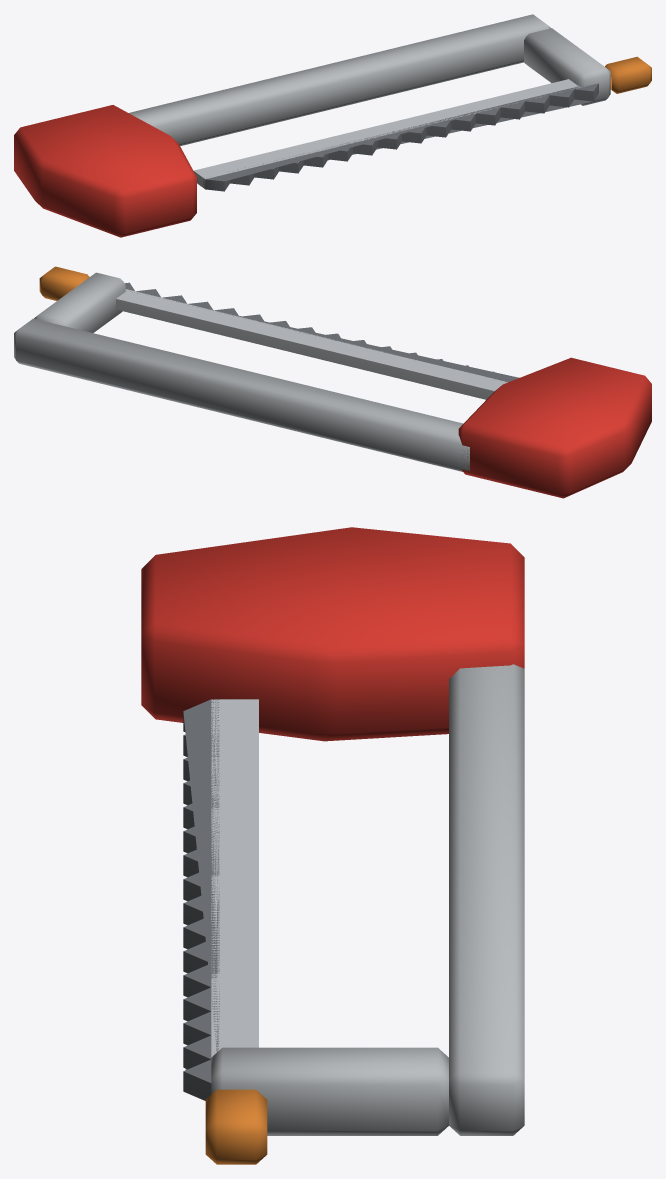
Rendered from SM_Hacksaw_01.glb.
The picture shows the model from 3 angles, top to bottom: view 1: azimuth 30°, elevation 25°; view 2: azimuth 150°, elevation 25°; view 3: azimuth 270°, elevation 25°; orthographic projection. The views are drawn at different scales.
Visible parts, largest first — view 1: SM_Hacksaw_01; view 2: SM_Hacksaw_01; view 3: SM_Hacksaw_01.
Part boxes in pixels (x1=…): SM_Hacksaw_01: x1=14, y1=14, x2=651, y2=237; SM_Hacksaw_01: x1=14, y1=266, x2=651, y2=498; SM_Hacksaw_01: x1=141, y1=527, x2=524, y2=1164.
Bounding box in the file's own units: 0.4788 × 0.038 × 0.137.
1 material, 1 textured.
